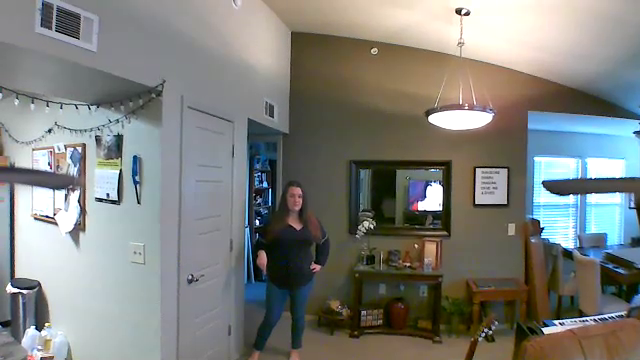down: (252, 245, 272, 277)
